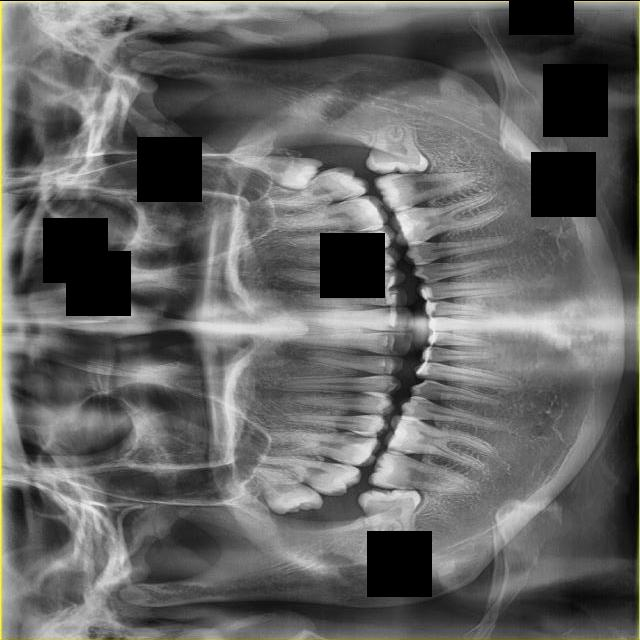Sterngold Implant: (334, 429, 378, 445), (416, 236, 427, 241)
Straumann Implant: (390, 206, 423, 239), (387, 423, 410, 450)
